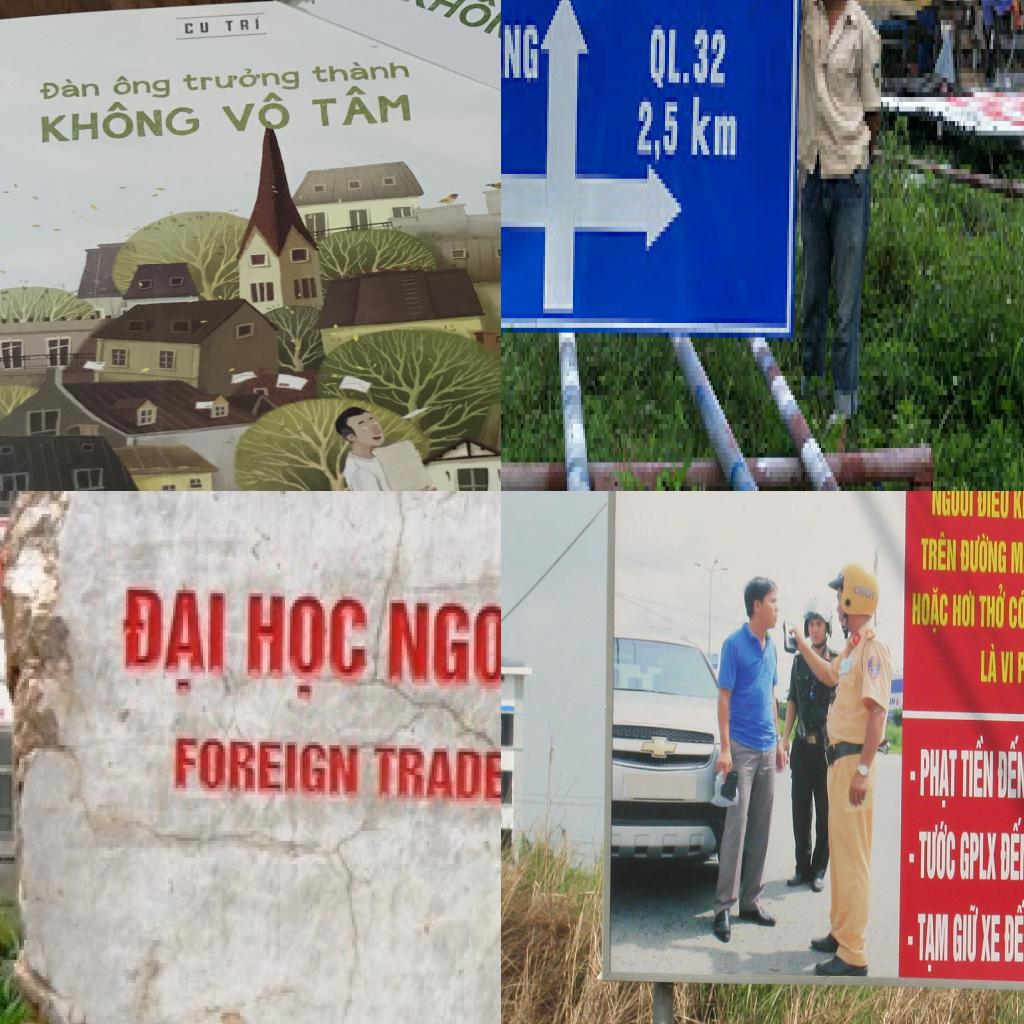text: (243, 576, 374, 708), (168, 722, 365, 805), (114, 573, 236, 699), (386, 596, 501, 712), (369, 741, 501, 814), (37, 98, 204, 146), (395, 0, 501, 57), (309, 80, 419, 129), (647, 20, 693, 102), (180, 63, 302, 93), (217, 90, 296, 136), (691, 97, 741, 169), (635, 97, 681, 174), (310, 56, 411, 85), (957, 731, 997, 804), (918, 741, 958, 813), (693, 20, 729, 97), (501, 20, 541, 87), (916, 820, 955, 884), (913, 907, 949, 976), (949, 900, 982, 966), (910, 584, 950, 636), (958, 829, 998, 880), (995, 731, 1024, 800), (958, 536, 1010, 572), (109, 70, 171, 99), (34, 74, 102, 100), (1001, 893, 1024, 969), (999, 812, 1024, 881), (919, 532, 957, 575), (978, 583, 1010, 631), (929, 491, 975, 521), (981, 907, 1003, 967), (950, 590, 978, 636), (977, 643, 1000, 692), (976, 491, 1010, 523), (221, 13, 267, 32), (1006, 586, 1024, 633), (182, 17, 215, 37), (999, 647, 1014, 690), (1009, 535, 1024, 576), (849, 583, 878, 604), (887, 694, 898, 706)
